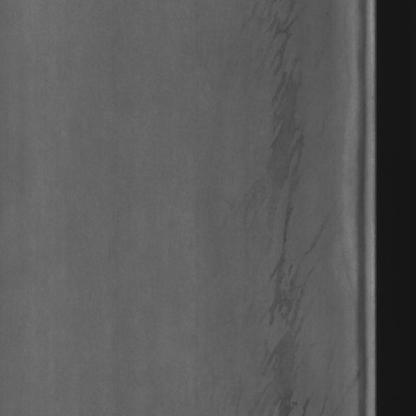water_spot: (244, 4, 312, 414)
